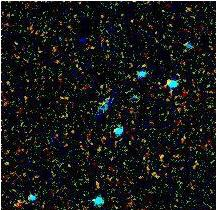star: (1, 26, 31, 56)
